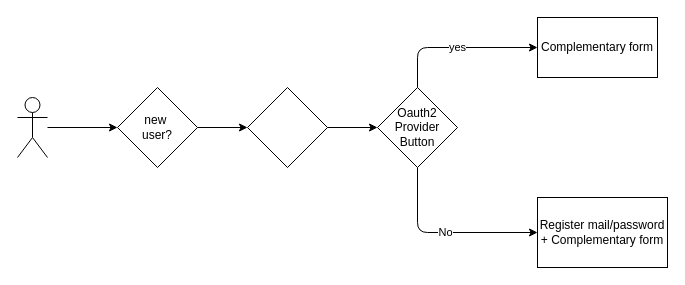
Image size: 685x285. Some labels were removed from this diagram. The centre of each missing label's shape, as x and y in pixels:
Sign Up page: (287,127)
User: (32,127)
